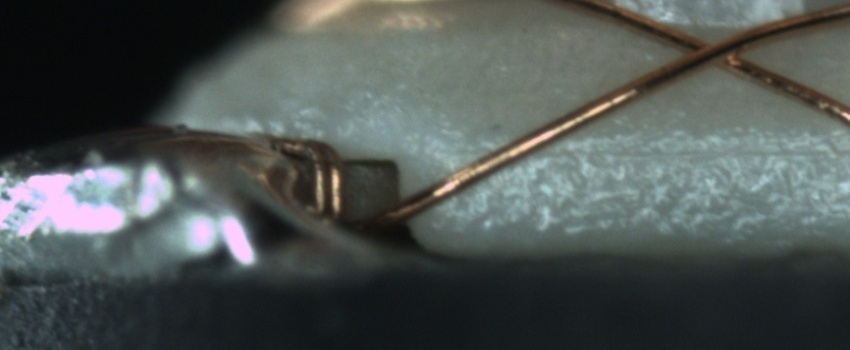CL: (670, 24, 762, 75)
DL: (445, 121, 849, 188)
TE: (268, 131, 350, 229)
